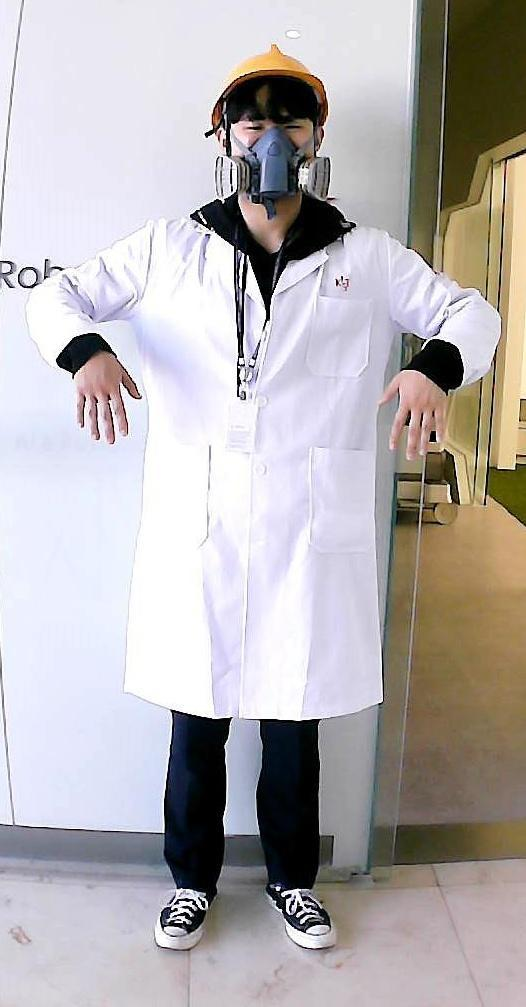lab_coat: (137, 234, 384, 703)
